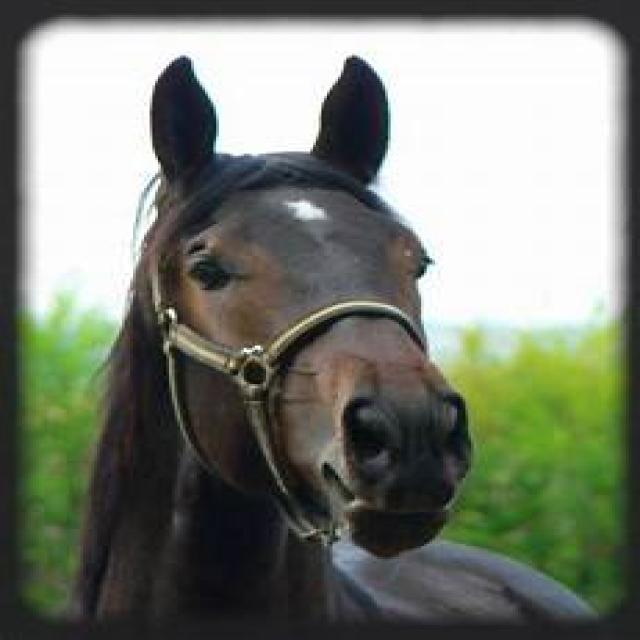horse: (72, 58, 582, 640)
